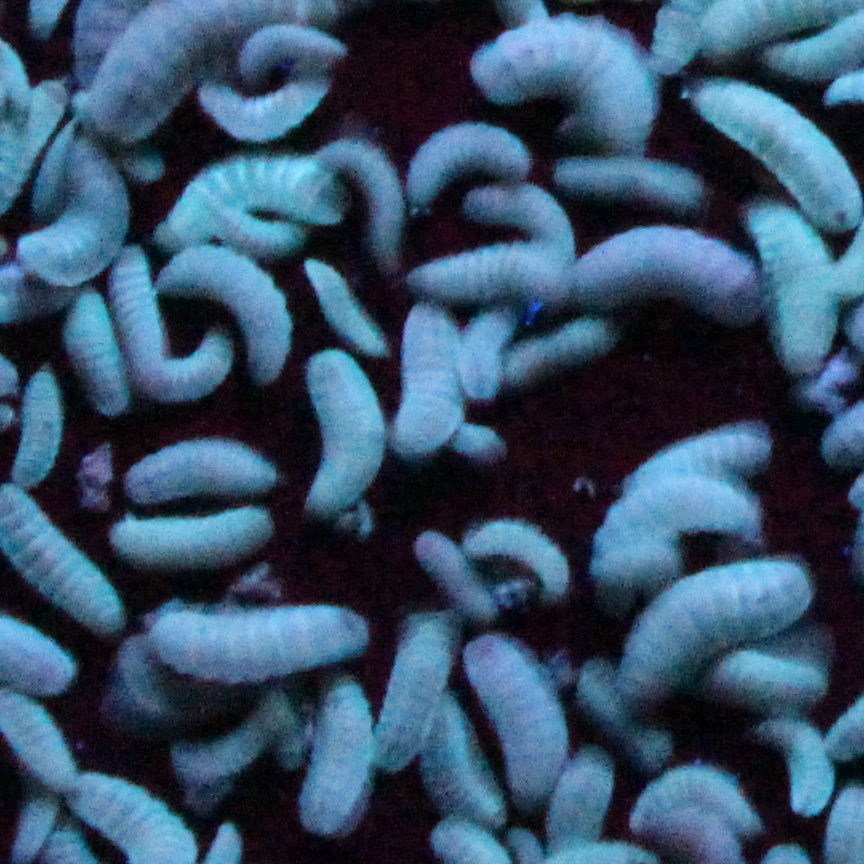larve: (614, 539, 824, 712), (458, 6, 662, 163), (686, 67, 863, 227), (454, 631, 576, 826), (154, 242, 302, 388), (147, 590, 373, 683), (578, 226, 772, 329), (296, 345, 391, 540), (375, 603, 470, 773), (609, 419, 788, 506), (96, 499, 288, 580), (319, 128, 421, 263), (383, 296, 467, 458), (392, 116, 547, 201), (95, 232, 176, 391), (119, 434, 285, 511), (186, 62, 326, 149), (550, 144, 713, 216), (299, 667, 368, 834), (753, 705, 843, 833), (298, 252, 393, 370), (463, 509, 572, 604), (11, 349, 68, 496), (229, 12, 348, 78)
